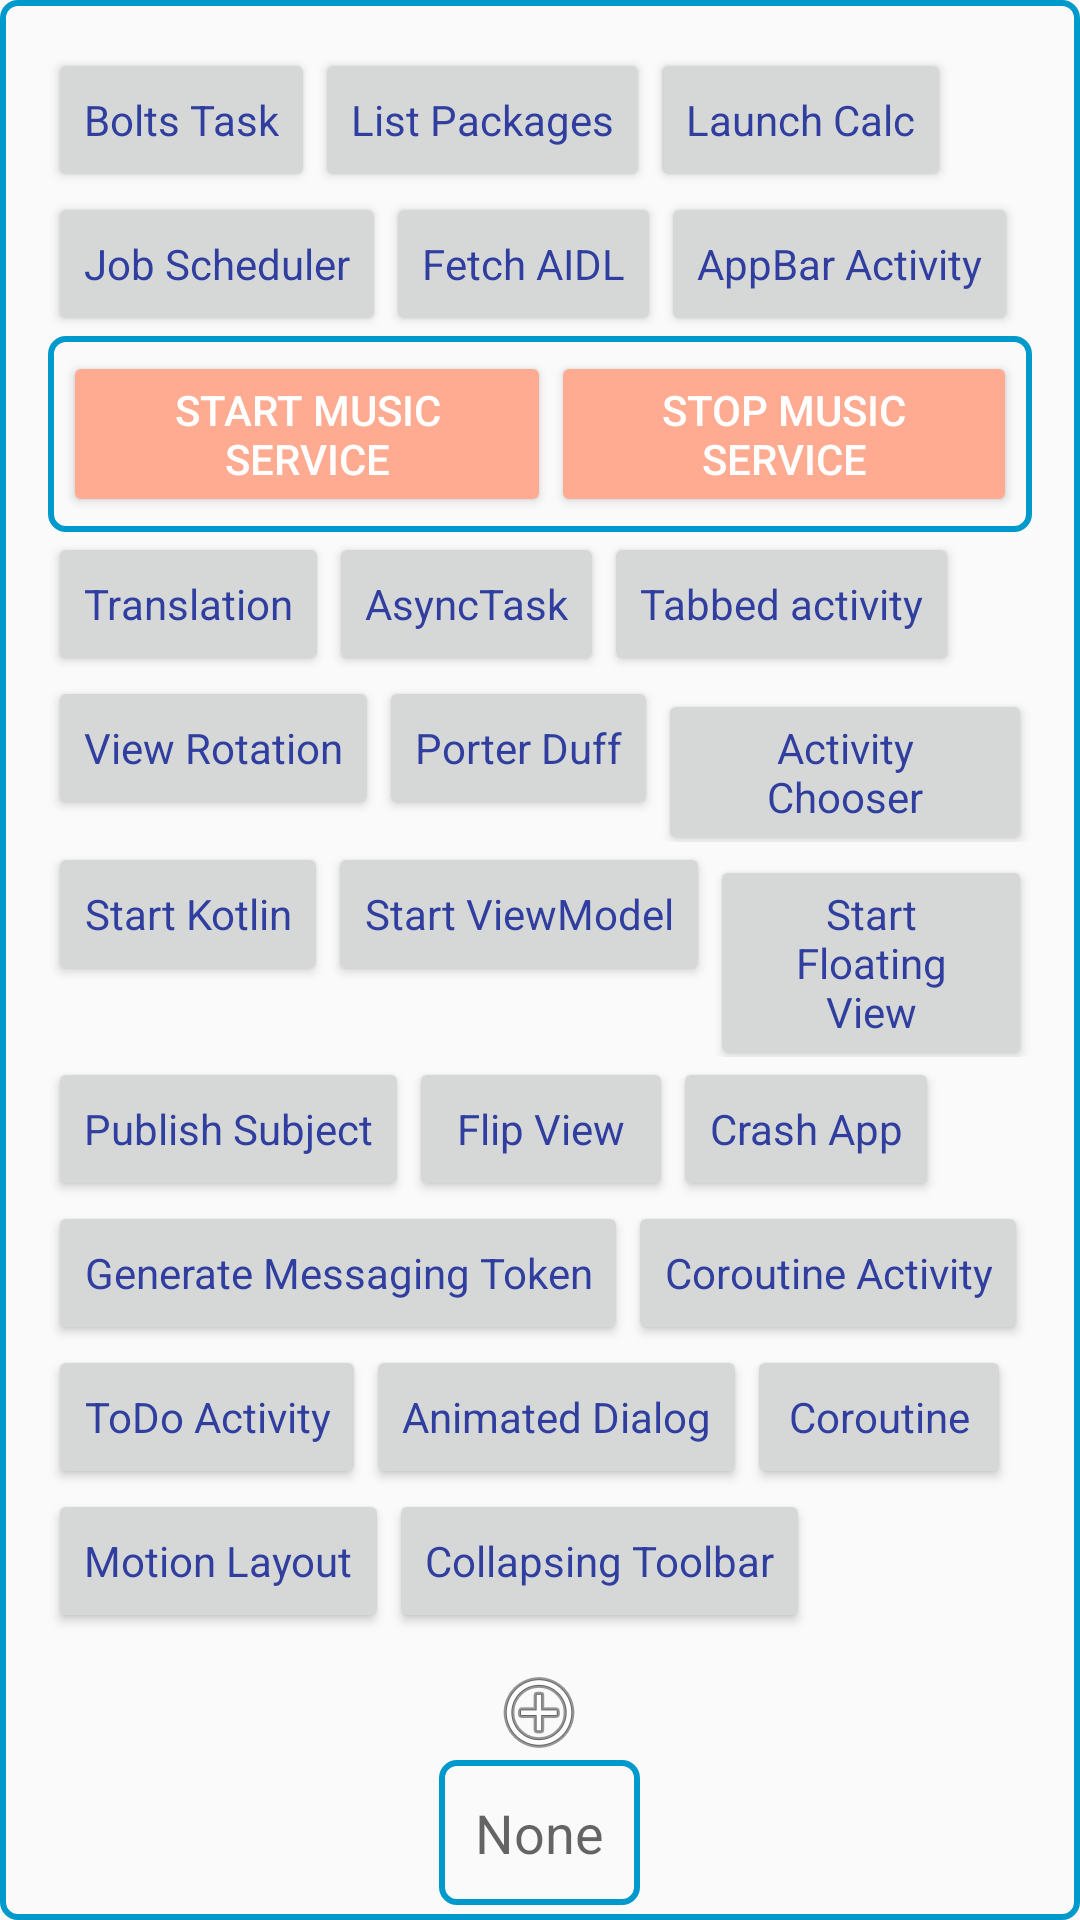

Icons on this 1080x1920 Android screen, each with the point to tap as [x,y]:
add: [539,1712]
